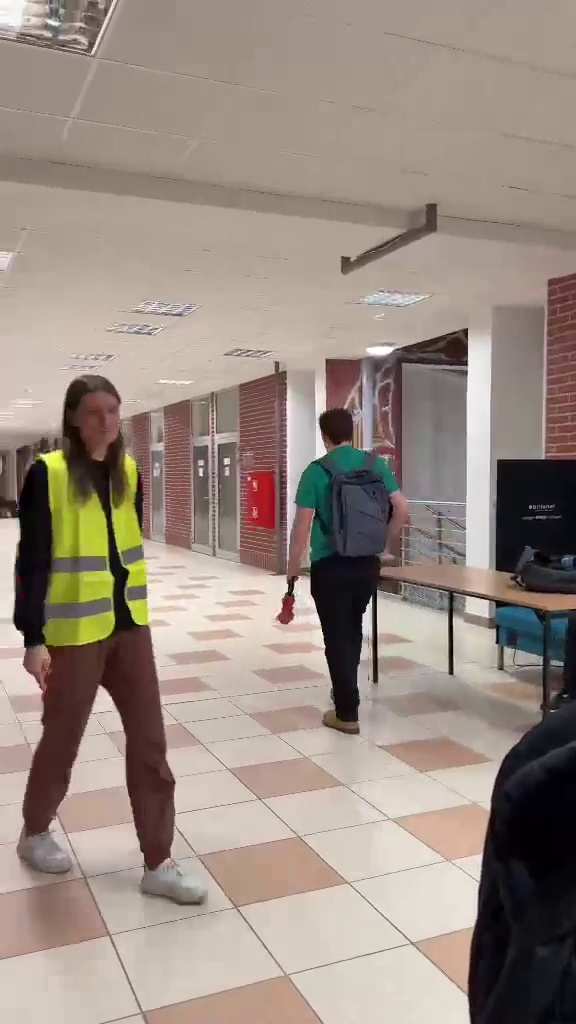no vest: (293, 402, 416, 737)
vest: (14, 377, 209, 908)
